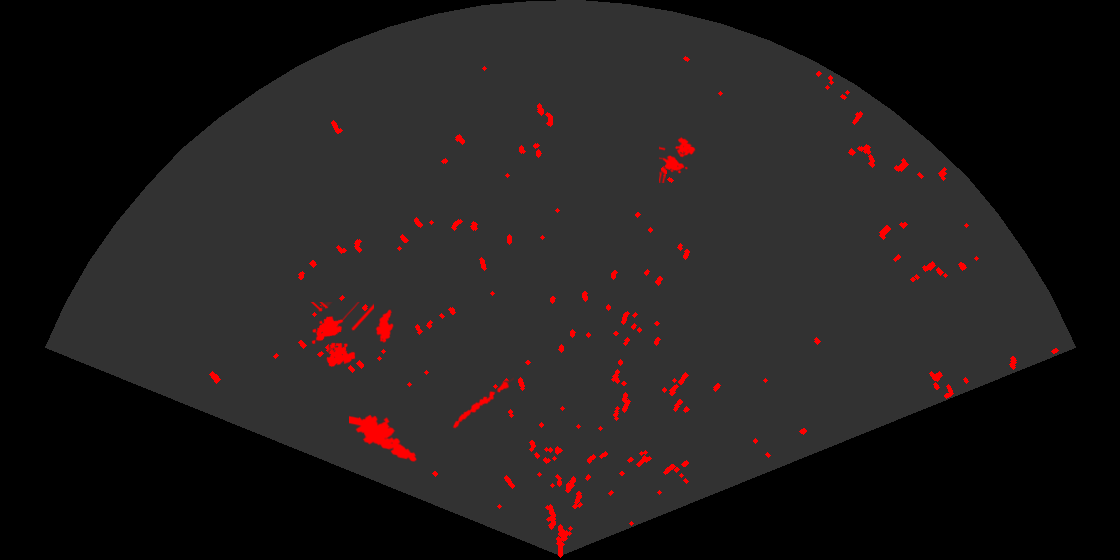AUV: (374, 308, 395, 345)
cage: (309, 302, 374, 369), (659, 135, 697, 183)
chain: (451, 376, 514, 430)
frogman: (349, 413, 418, 463)
